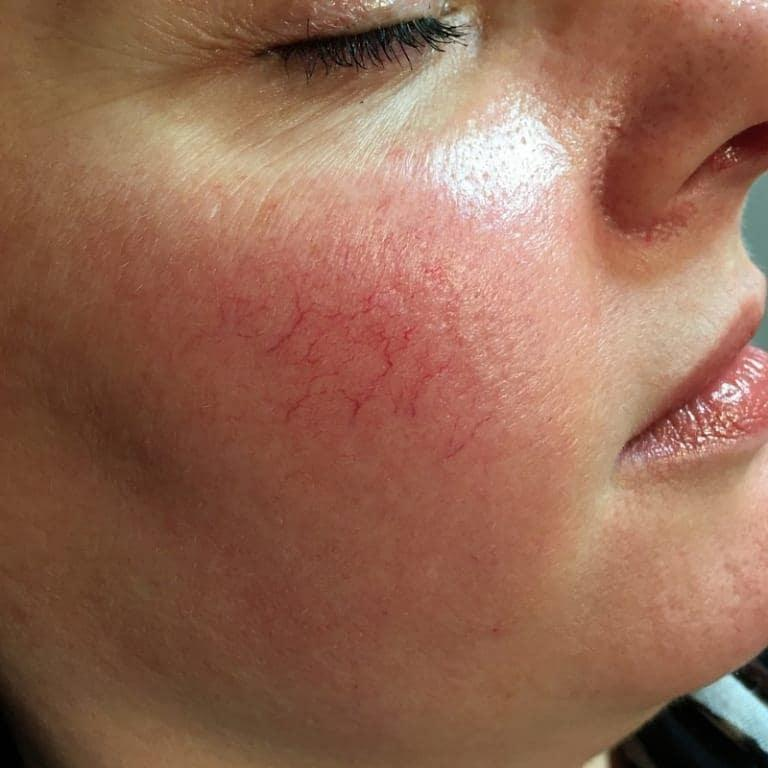Skin-Redness: (233, 262, 510, 481)
